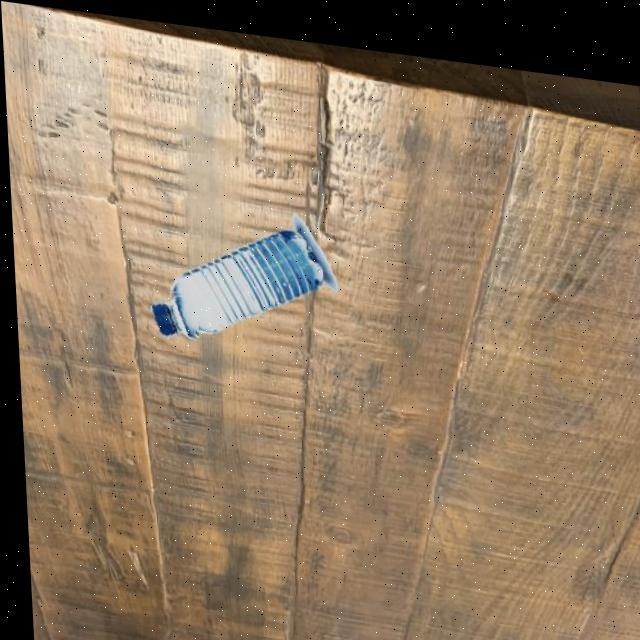plasticbottlecap: (133, 279, 195, 349)
